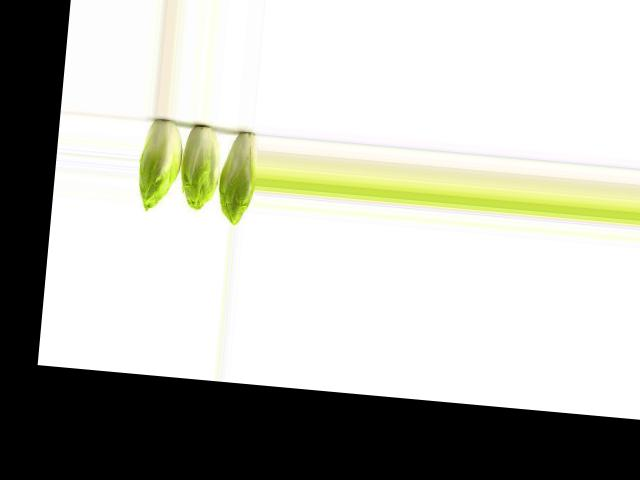lettuce: (135, 114, 183, 214)
